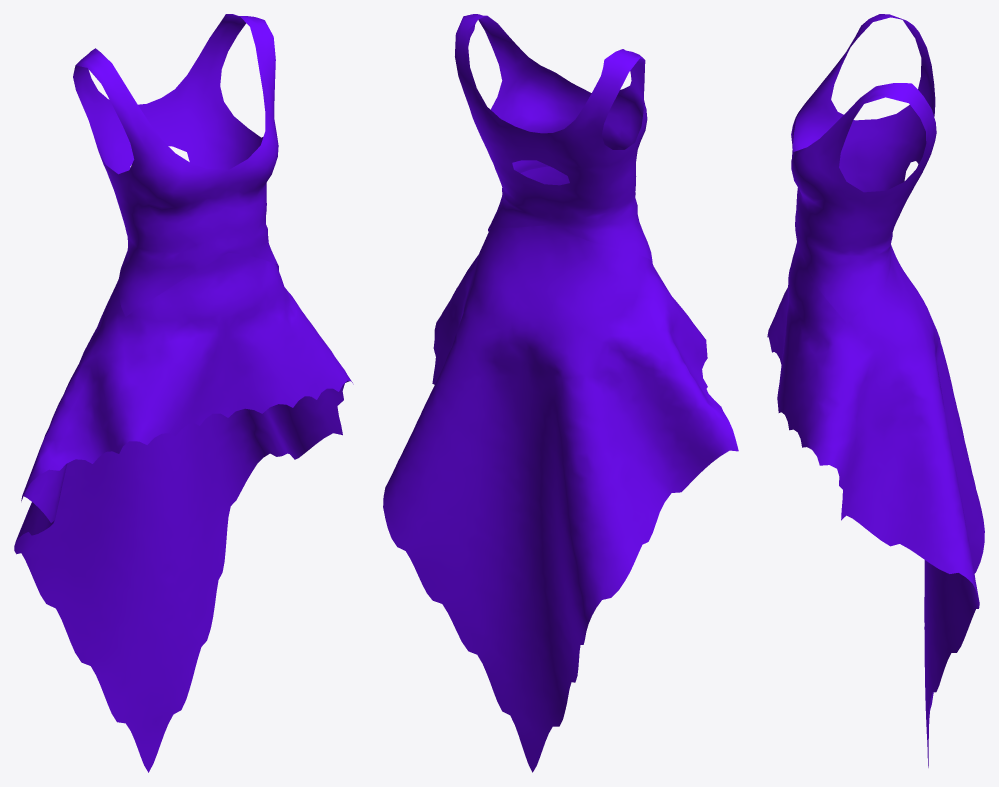
3 views of the same model, side by side, from view 1: azimuth 30°, elevation 25°; view 2: azimuth 150°, elevation 25°; view 3: azimuth 270°, elevation 25° (orthographic). The views are drawn at different scales.
Visible parts, largest first — view 1: UA; view 2: UA; view 3: UA.
Boxes of the visible parts, x1,y1,x2,y2 form: UA: [14, 14, 353, 772]; UA: [383, 14, 738, 772]; UA: [767, 14, 984, 767].
Size of the model in its own units: 0.5919 by 1.32 by 0.3593.
